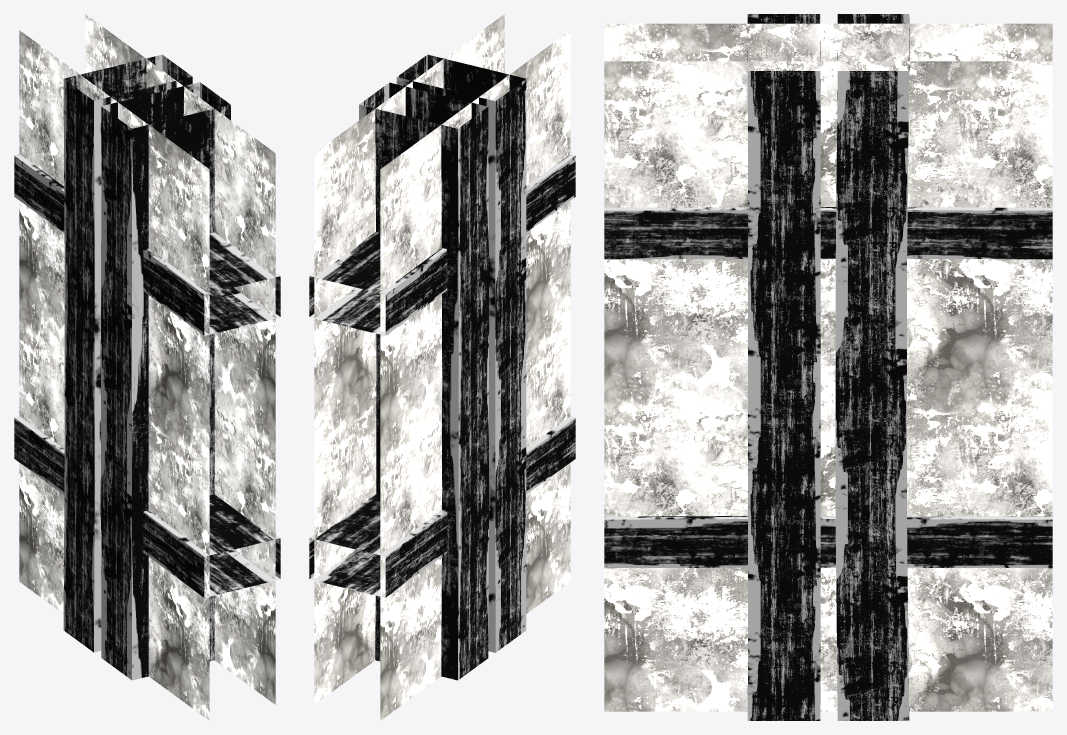
The model's file is SM_wall_A_2-5x4_02_03.fbx.
3 renders of one model, left to right at view 1: azimuth 30°, elevation 25°; view 2: azimuth 150°, elevation 25°; view 3: azimuth 270°, elevation 25°, orthographic. The views are drawn at different scales.
Visible parts, largest first — view 1: SM_wall_A_2-5x4_02_03_LOD0; view 2: SM_wall_A_2-5x4_02_03_LOD0; view 3: SM_wall_A_2-5x4_02_03_LOD0.
Part boxes in pixels (left/top/right/bottom): SM_wall_A_2-5x4_02_03_LOD0: left=14, top=14, right=280, bottom=720; SM_wall_A_2-5x4_02_03_LOD0: left=309, top=14, right=575, bottom=720; SM_wall_A_2-5x4_02_03_LOD0: left=604, top=14, right=1052, bottom=720.
Bounding box in the file's own units: 75 × 250 × 400.
Materials: 3 (3 with a texture image).
